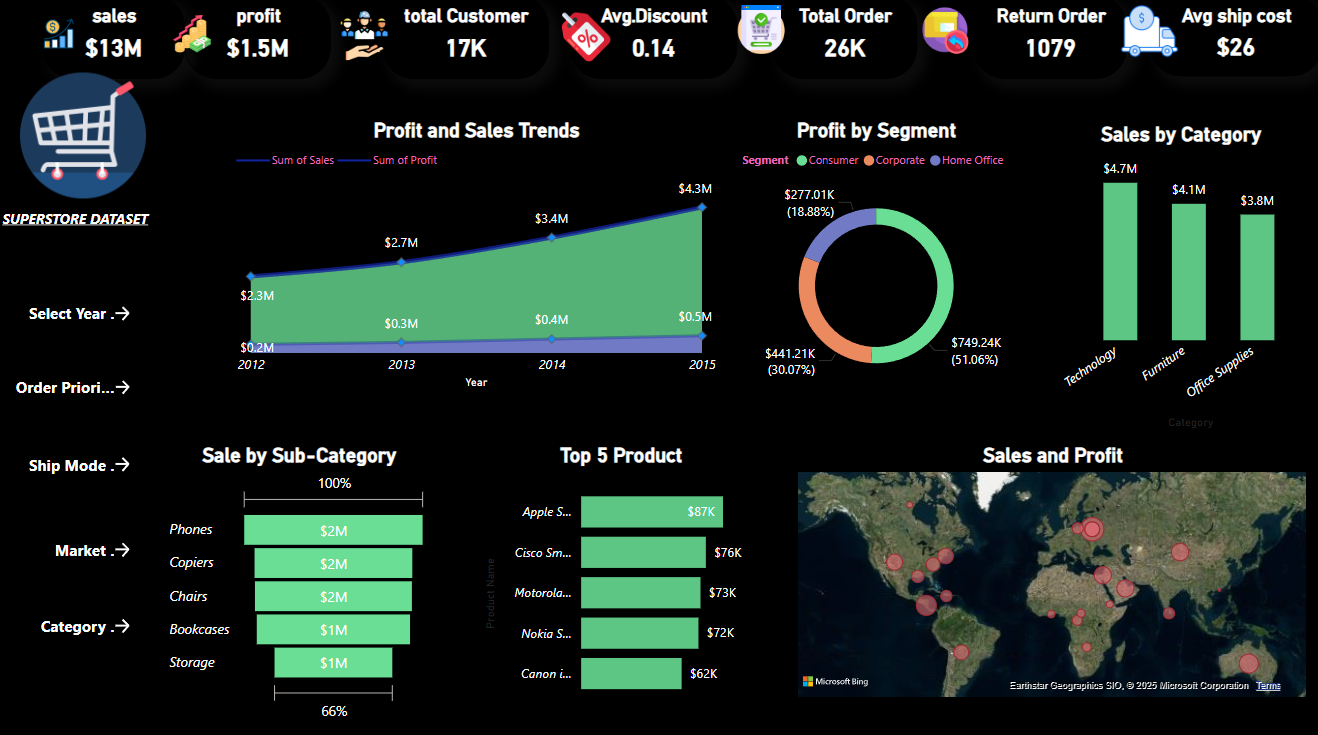

This screenshot's page, from the dashboard's own definition file:
{"tool":"powerbi","page":{"name":"Dashboard","canvas":[1280,720],"ordinal":0},"visuals":[{"type":"shape","box":[0,126.7,162.9,593.6],"z":0},{"type":"actionButton","box":[0,278.7,142.4,57.9],"z":1000},{"type":"card","title":"sales","fields":{"Values":["Sum(Orders.Sales)"]},"box":[21.7,0,141.2,80.8],"z":2000},{"type":"actionButton","box":[1.2,347.5,141.2,62.7],"z":3000},{"type":"card","title":"profit","fields":{"Values":["Sum(Orders.Profit)"]},"box":[162.9,0,141.2,80.8],"z":4000},{"type":"actionButton","box":[0,423.5,142.4,60.3],"z":5000},{"type":"card","title":"total Customer","fields":{"Values":["Count(Orders.Customer ID)"]},"box":[351.1,0,160.5,80.8],"z":6000},{"type":"actionButton","box":[0,504.3,142.4,62.7],"z":7000},{"type":"card","title":"Total Order","fields":{"Values":["Count(Orders.Order ID)"]},"box":[749.2,0,139.9,80.8],"z":8000},{"type":"actionButton","box":[0,577.9,142.4,62.7],"z":9000},{"type":"card","title":"Return Order","fields":{"Values":["Count(Returns.Order ID)"]},"box":[943.4,0,148.4,80.8],"z":10000},{"type":"lineChart","title":"Profit and Sales Trends","fields":{"Category":["Orders.Order Date.Variation.Date Hierarchy.Year","Orders.Order Date.Variation.Date Hierarchy.Quarter","Orders.Order Date.Variation.Date Hierarchy.Month","Orders.Order Date.Variation.Date Hierarchy.Day"],"Y":["Sum(Orders.Sales)","Sum(Orders.Profit)"]},"box":[162.9,113.4,510.3,265.4],"z":11000},{"type":"barChart","title":"Top 5 Product","fields":{"Category":["Orders.Product Name"],"Y":["Sum(Orders.Sales)"]},"box":[456,417.4,293.2,284.7],"z":12000},{"type":"columnChart","title":"Sales by Category","fields":{"Category":["Orders.Category"],"Y":["Sum(Orders.Sales)"]},"box":[1006.2,105,273.9,273.9],"z":13000},{"type":"funnel","title":"Sale by Sub-Category","fields":{"Category":["Orders.Sub-Category"],"Y":["Sum(Orders.Sales)"]},"box":[152,418.6,279.9,283.5],"z":14000},{"type":"donutChart","title":"Profit by Segment","fields":{"Category":["Orders.Segment"],"Y":["Sum(Orders.Profit)"]},"box":[715.4,114.6,269,264.2],"z":15000},{"type":"card","title":"Avg.Discount","fields":{"Values":["Avg(Orders.Discount)"]},"box":[553.8,0,161.7,80.8],"z":16000},{"type":"card","title":"Avg ship cost","fields":{"Values":["Avg(Orders.Shipping Cost)"]},"box":[1113.5,0,166.5,78.4],"z":17000},{"type":"actionButton","title":"More Detail","box":[431.9,399.3,79.6,39.8],"z":18000},{"type":"map","title":"Sales and Profit","fields":{"Category":["Orders.Region"],"Size":["Sum(Orders.Sales)"]},"box":[758.9,418.6,521.2,275.1],"z":24000},{"type":"image","box":[0,105,167.7,131.5],"z":25000},{"type":"image","box":[30.2,15.7,42.2,38.6],"z":26000},{"type":"image","box":[142.4,9.7,53.1,48.3],"z":27000},{"type":"image","box":[308.8,10.9,63.9,59.1],"z":28000},{"type":"image","box":[520,4.8,66.4,59.1],"z":29000},{"type":"image","box":[707,4.8,62.7,56.7],"z":30000},{"type":"image","box":[889.1,2.4,54.3,63.9],"z":31000},{"type":"image","box":[1077.4,1.2,72.4,67.6],"z":32000}]}

Visuals, with their boxes in screenshot pixels (x1, y1, x2, y2), scaled from the page's 1280x720 canvas onto the 1318x735 screenshot:
shape: x1=0 y1=129 x2=168 y2=734
actionButton: x1=0 y1=285 x2=147 y2=344
"sales" card: x1=22 y1=0 x2=168 y2=82
actionButton: x1=1 y1=355 x2=147 y2=419
"profit" card: x1=168 y1=0 x2=313 y2=82
actionButton: x1=0 y1=432 x2=147 y2=494
"total Customer" card: x1=362 y1=0 x2=527 y2=82
actionButton: x1=0 y1=515 x2=147 y2=579
"Total Order" card: x1=771 y1=0 x2=915 y2=82
actionButton: x1=0 y1=590 x2=147 y2=654
"Return Order" card: x1=971 y1=0 x2=1124 y2=82
"Profit and Sales Trends" lineChart: x1=168 y1=116 x2=693 y2=387
"Top 5 Product" barChart: x1=470 y1=426 x2=771 y2=717
"Sales by Category" columnChart: x1=1036 y1=107 x2=1317 y2=387
"Sale by Sub-Category" funnel: x1=157 y1=427 x2=445 y2=717
"Profit by Segment" donutChart: x1=737 y1=117 x2=1014 y2=387
"Avg.Discount" card: x1=570 y1=0 x2=737 y2=82
"Avg ship cost" card: x1=1147 y1=0 x2=1317 y2=80
"More Detail" actionButton: x1=445 y1=408 x2=527 y2=448
"Sales and Profit" map: x1=781 y1=427 x2=1317 y2=708
image: x1=0 y1=107 x2=173 y2=241
image: x1=31 y1=16 x2=75 y2=55
image: x1=147 y1=10 x2=201 y2=59
image: x1=318 y1=11 x2=384 y2=71
image: x1=535 y1=5 x2=604 y2=65
image: x1=728 y1=5 x2=793 y2=63
image: x1=915 y1=2 x2=971 y2=68
image: x1=1109 y1=1 x2=1184 y2=70
